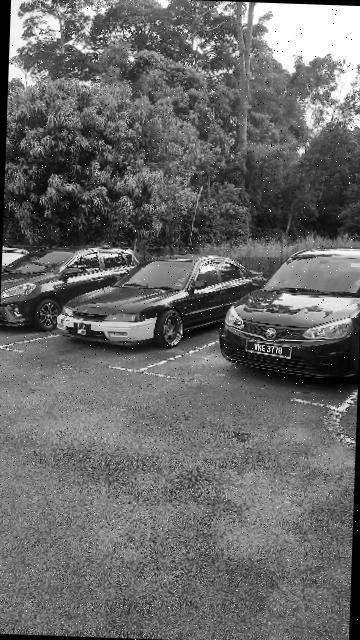License_Plate: (244, 337, 299, 362), (73, 324, 94, 339)
car: (55, 250, 266, 354), (219, 239, 360, 389), (1, 245, 149, 338)
